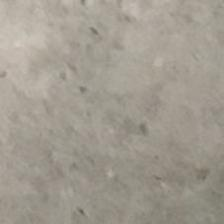Non_Crack: (22, 18, 222, 224)
